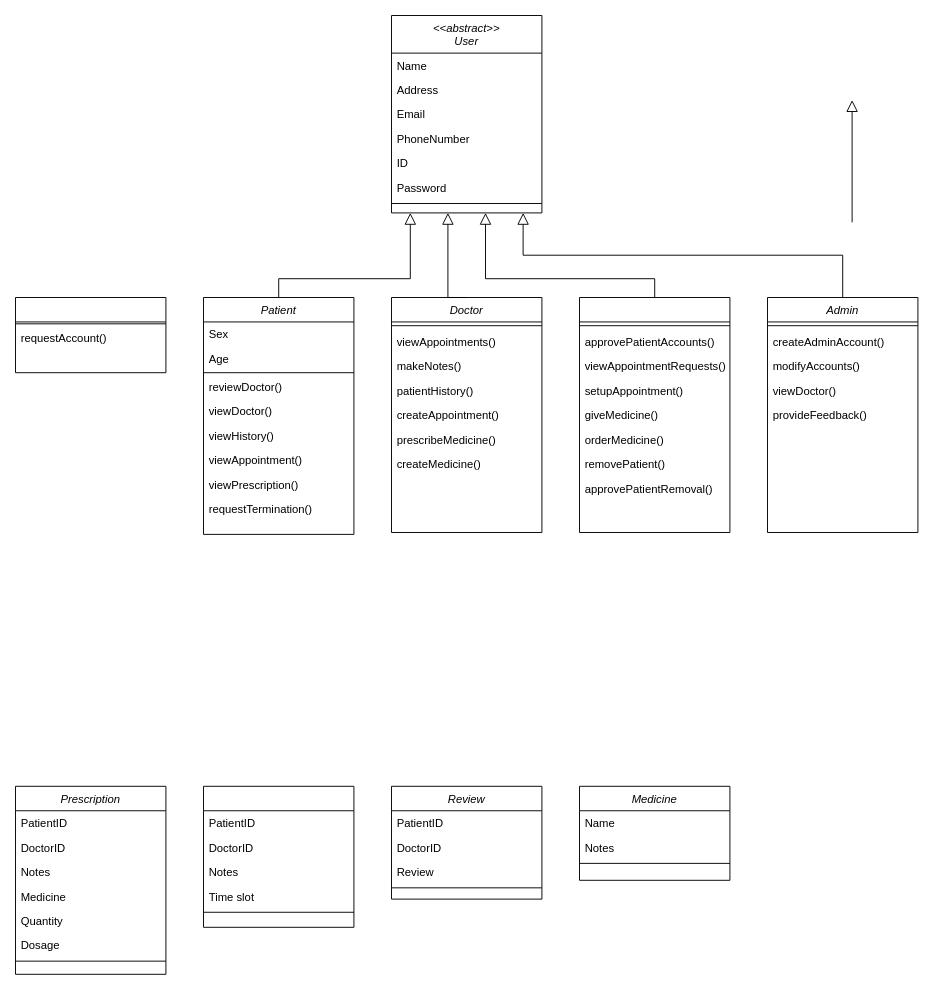
Image size: 933x990. Some labels were removed from this diagram. The box of each missing label's shape, as (x1, y1, x2, y2) in pixels:
Appointment: (203, 785, 354, 927)
Guest: (15, 297, 166, 373)
Secretary: (579, 297, 730, 533)
